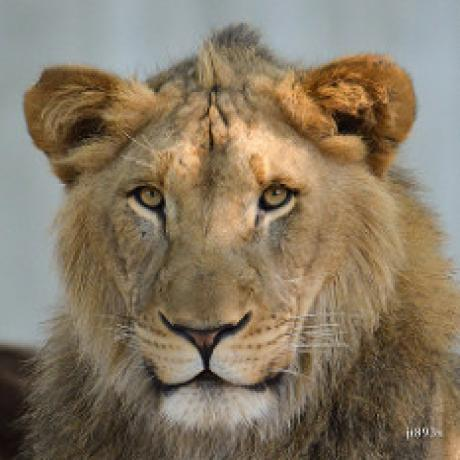Lion: (25, 32, 460, 460)
